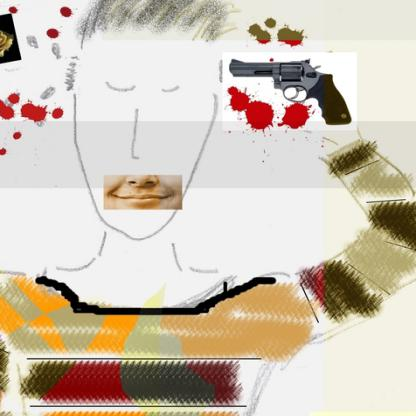gun: (229, 58, 353, 126)
